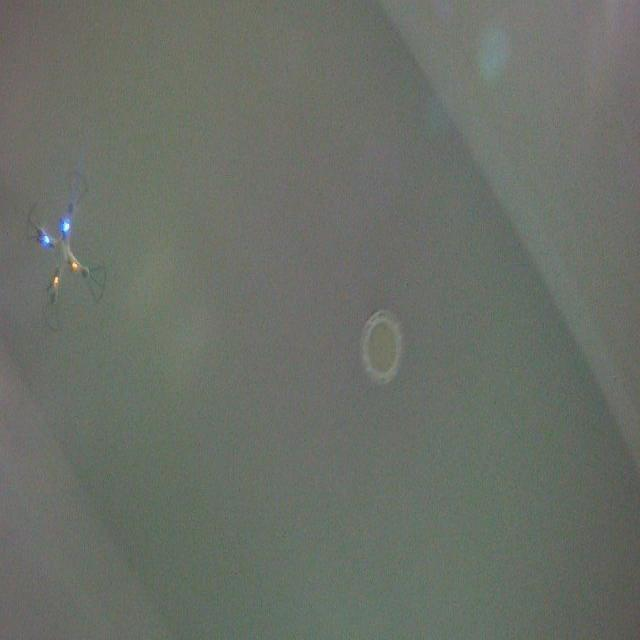drone: (22, 165, 108, 335)
